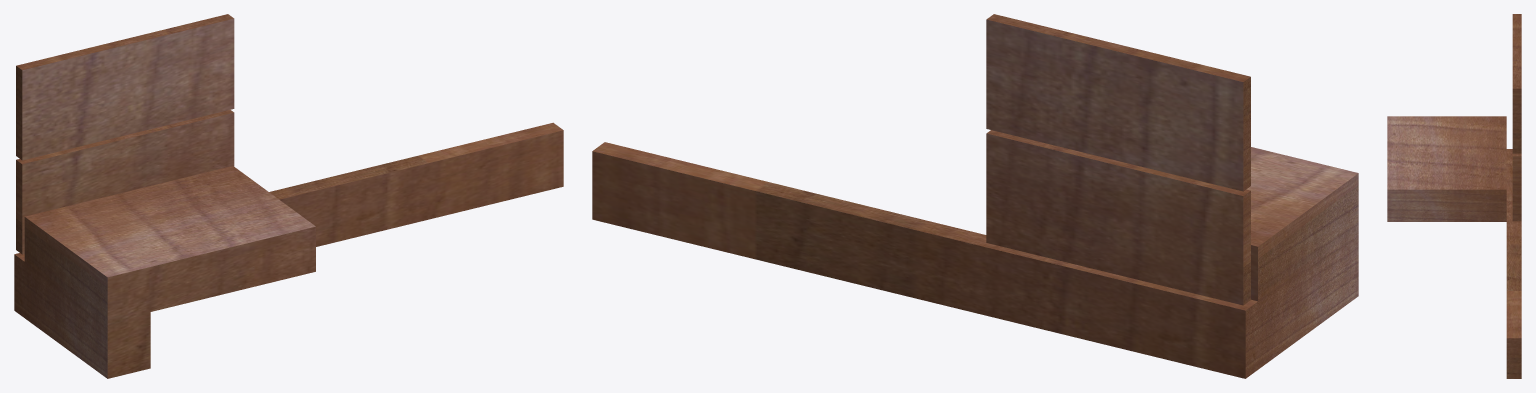
File: comodinoSinistro.obj
3 renders of one model, left to right at view 1: azimuth 30°, elevation 25°; view 2: azimuth 150°, elevation 25°; view 3: azimuth 270°, elevation 25°, orthographic. The views are drawn at different scales.
Parts seen in each view (by area): view 1: Box37_1, Line19_4, Box38_2, Box39_3; view 2: Line19_4, Box38_2, Box39_3, Box37_1; view 3: Box37_1, Line19_4, Box38_2, Box39_3.
Boxes of the visible parts, box(x1,y1,x2,y2) form: Box37_1: box(24, 166, 315, 322); Line19_4: box(14, 122, 563, 378); Box38_2: box(16, 14, 234, 160); Box39_3: box(16, 110, 234, 254); Line19_4: box(592, 142, 1358, 378); Box38_2: box(986, 14, 1250, 191); Box39_3: box(986, 130, 1250, 305); Box37_1: box(1246, 147, 1358, 301); Box37_1: box(1387, 116, 1506, 221); Line19_4: box(1506, 149, 1521, 378); Box38_2: box(1512, 14, 1521, 153); Box39_3: box(1512, 153, 1521, 221).
Bounding box in the file's own units: 150 × 65 × 45.
Materials: 1 (1 with a texture image).
